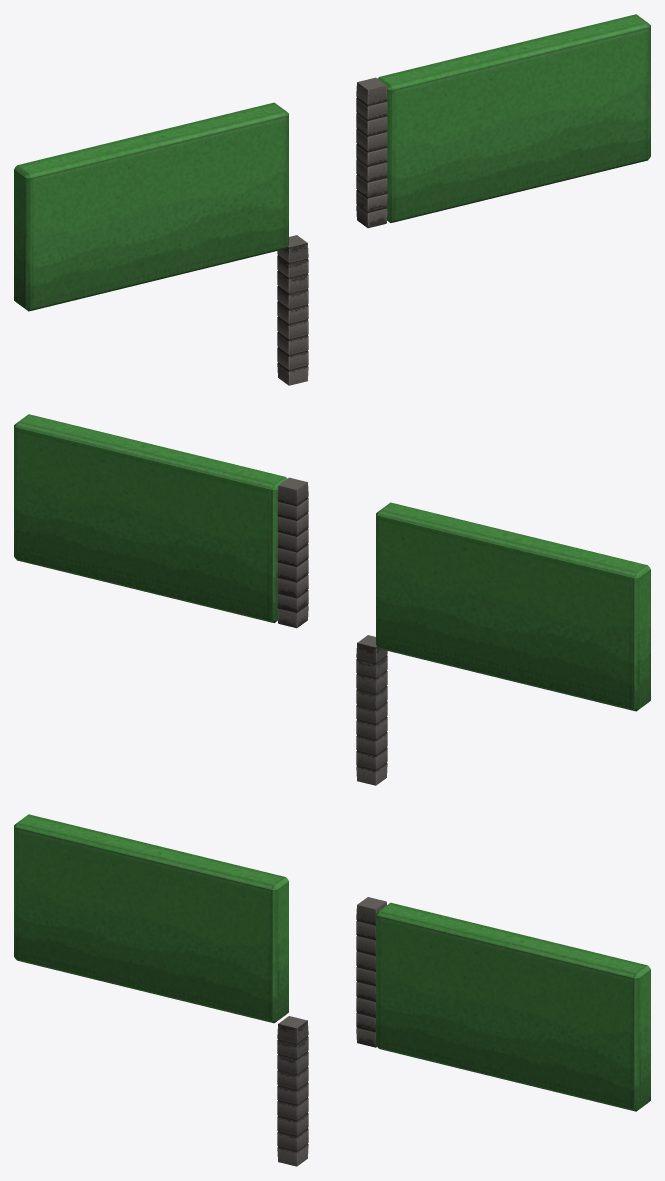
Rendered from LD_HedgeWall_01.FBX.
The picture shows the model from 3 angles, top to bottom: view 1: azimuth 30°, elevation 25°; view 2: azimuth 150°, elevation 25°; view 3: azimuth 330°, elevation 25°; orthographic projection.
Visible parts, largest first — view 1: Box003, Box004, Pillar, Pillar001; view 2: Box003, Box004, Pillar, Pillar001; view 3: Box003, Box004, Pillar001, Pillar.
Boxes of the visible parts, box(x1,y1,x2,y2) form: Box003: box(14, 102, 288, 311); Box004: box(377, 14, 650, 223); Pillar: box(356, 77, 387, 228); Pillar001: box(277, 235, 308, 385); Box003: box(376, 502, 650, 711); Box004: box(14, 414, 287, 623); Pillar: box(277, 477, 308, 628); Pillar001: box(356, 635, 387, 785); Box003: box(14, 814, 288, 1023); Box004: box(376, 902, 650, 1111); Pillar001: box(277, 1016, 308, 1166); Pillar: box(356, 897, 386, 1047).
Size of the model in its own units: 23.73 by 10.02 by 1.
Materials: 2 (2 with a texture image).
